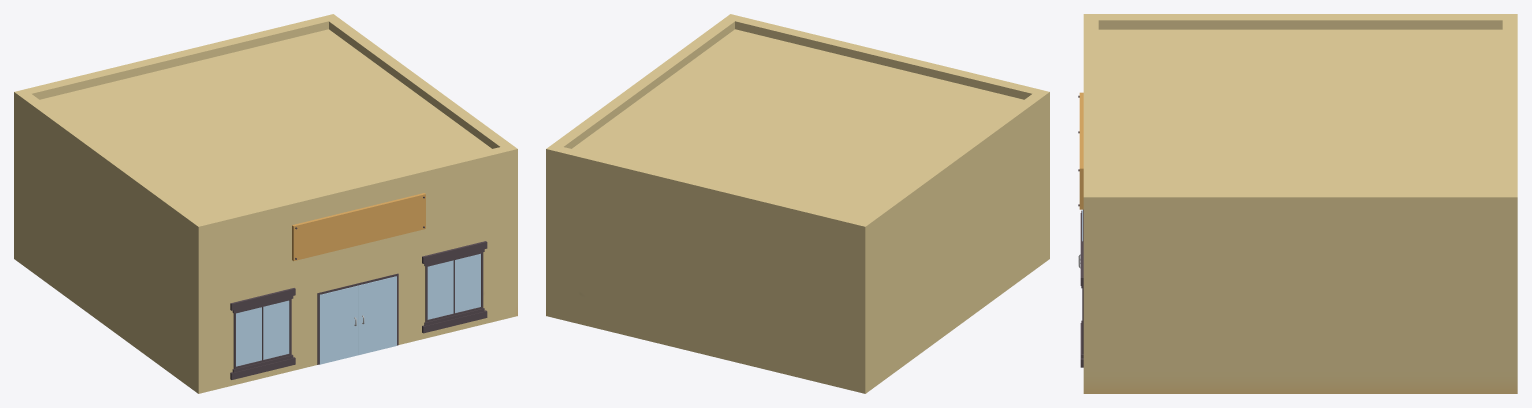
File: BasicBuilding1.fbx
3 renders of one model, left to right at view 1: azimuth 30°, elevation 25°; view 2: azimuth 150°, elevation 25°; view 3: azimuth 270°, elevation 25°, orthographic. The views are drawn at different scales.
Parts seen in each view (by area): view 1: Building Piece 1; view 2: Building Piece 1; view 3: Building Piece 1.
Part boxes in pixels (x1,y1,x2,y2): Building Piece 1: (14, 14, 517, 393); Building Piece 1: (546, 14, 1049, 393); Building Piece 1: (1078, 14, 1517, 393).
Bounding box in the file's own units: 1000 × 500 × 1012.
